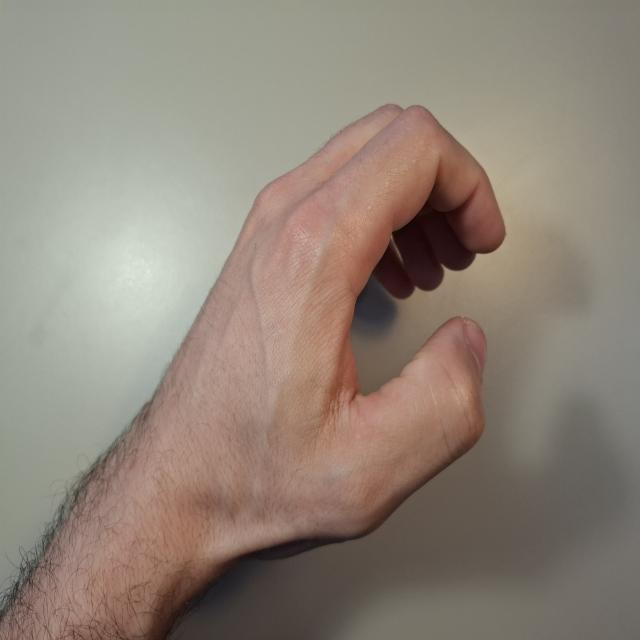glove_off: (140, 101, 509, 564)
